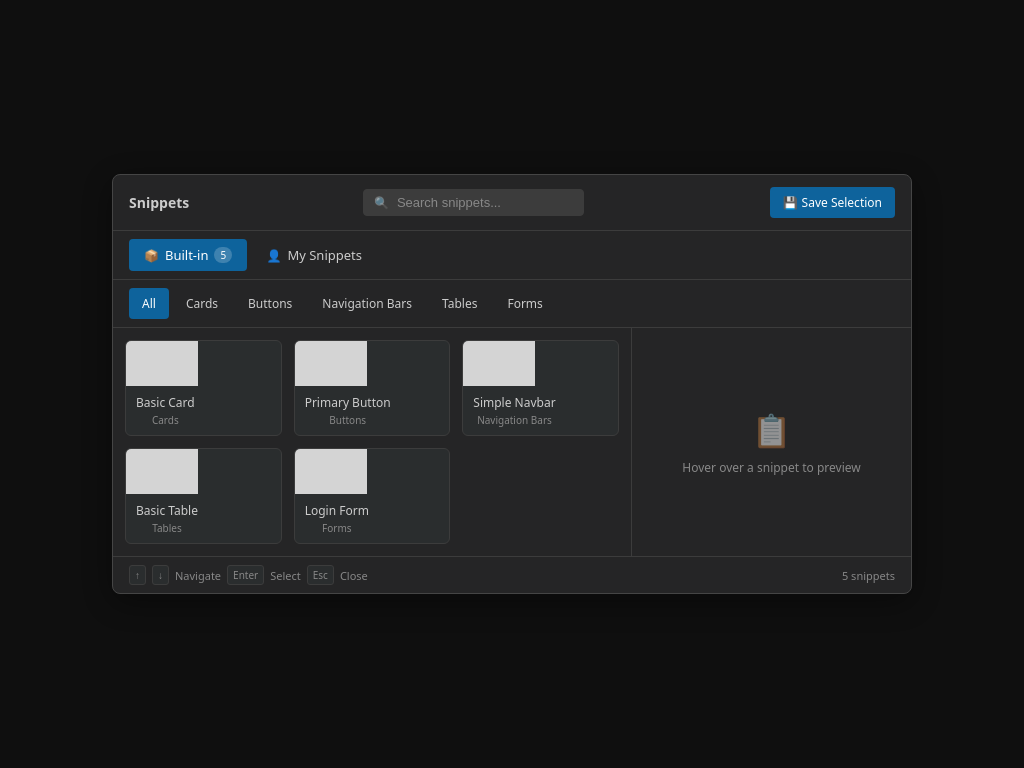
Test case: SnippetSelector.vue › Save as Snippet › should show save dialog with name, category, and description fields
The image size is (1024, 768).
Click the button with class "save-as-btn". click: (832, 202)
box: [770,187,895,218]
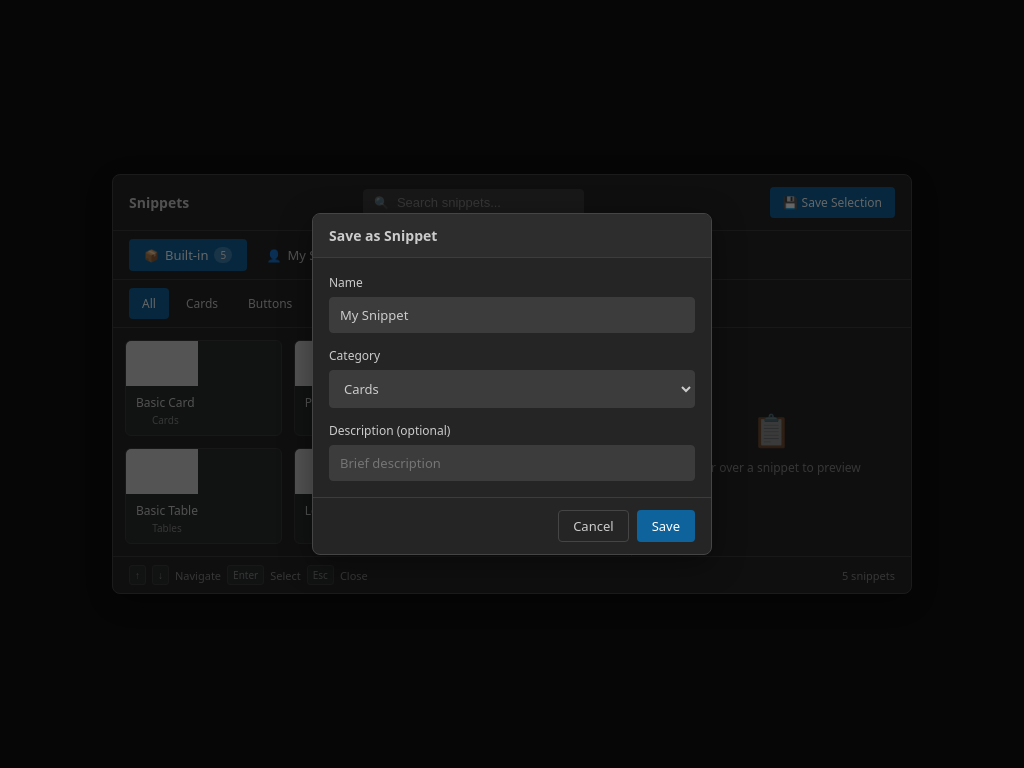
Expected: the text with class "dialog-title" reads "Save as Snippet", [329,226,437,245]
Expected: the 1st field with class "form-input" is shown, [329,297,695,333]
Expected: the dropdown with class "form-select" is shown, [329,370,695,408]
